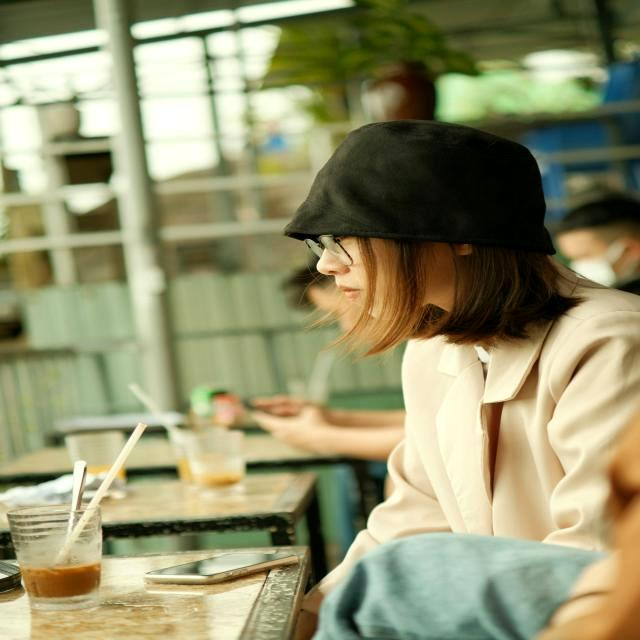no_hard_hat: (284, 120, 555, 254)
person: (280, 119, 640, 640)
